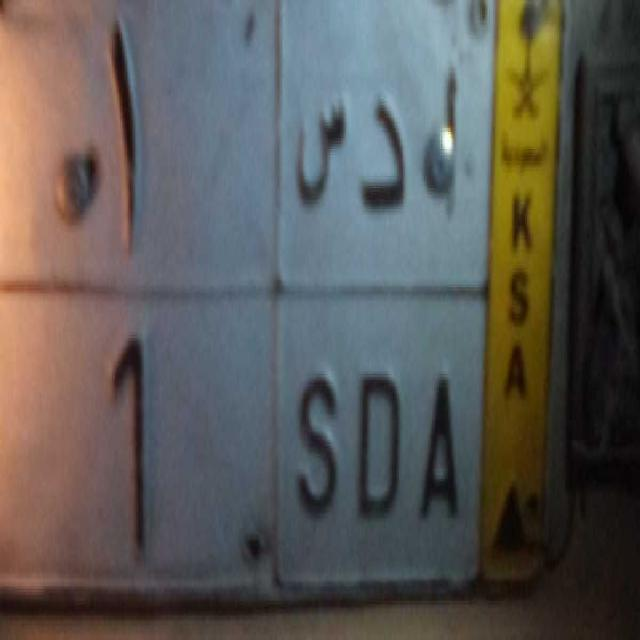license_plate: (0, 279, 485, 613)
